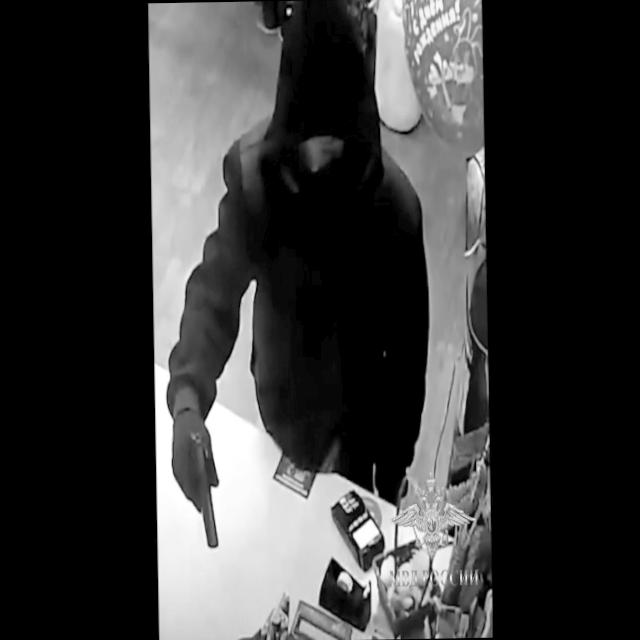gun: (167, 402, 224, 557)
person with a gun: (162, 19, 432, 554)
